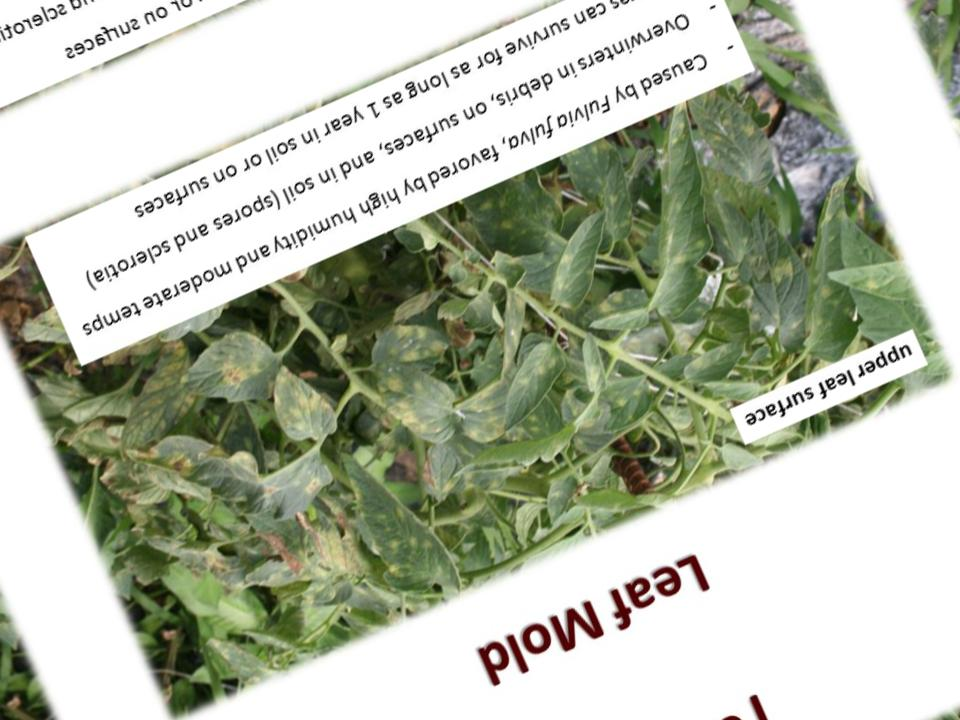Tomato mold leaf: (590, 102, 765, 320), (733, 174, 916, 375), (132, 392, 317, 560), (332, 421, 473, 612), (708, 178, 832, 344), (428, 335, 584, 462), (90, 341, 226, 473), (162, 316, 292, 433), (521, 202, 638, 318), (369, 345, 472, 460), (252, 344, 350, 456), (564, 135, 654, 249), (581, 368, 662, 441), (579, 286, 661, 350), (671, 335, 749, 394), (566, 331, 614, 397)
